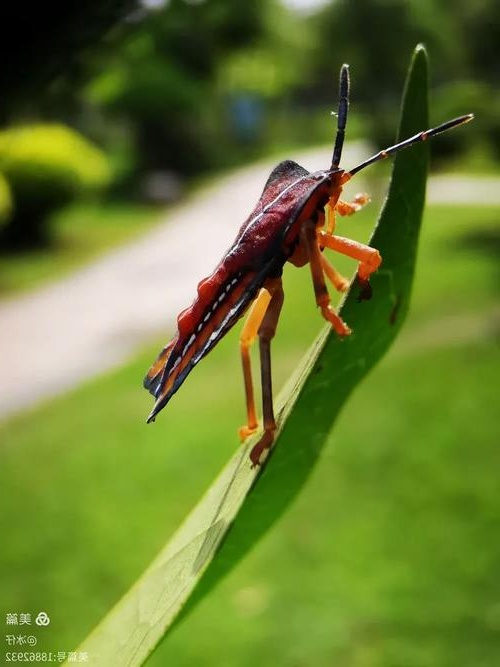Stink_Bug: (146, 139, 391, 416)
